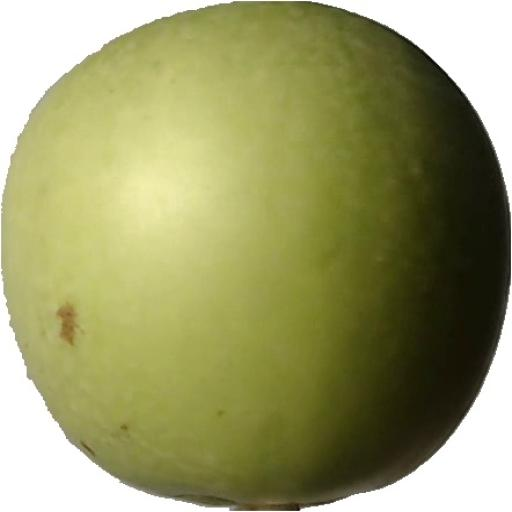apple-unripe: (0, 0, 512, 497)
